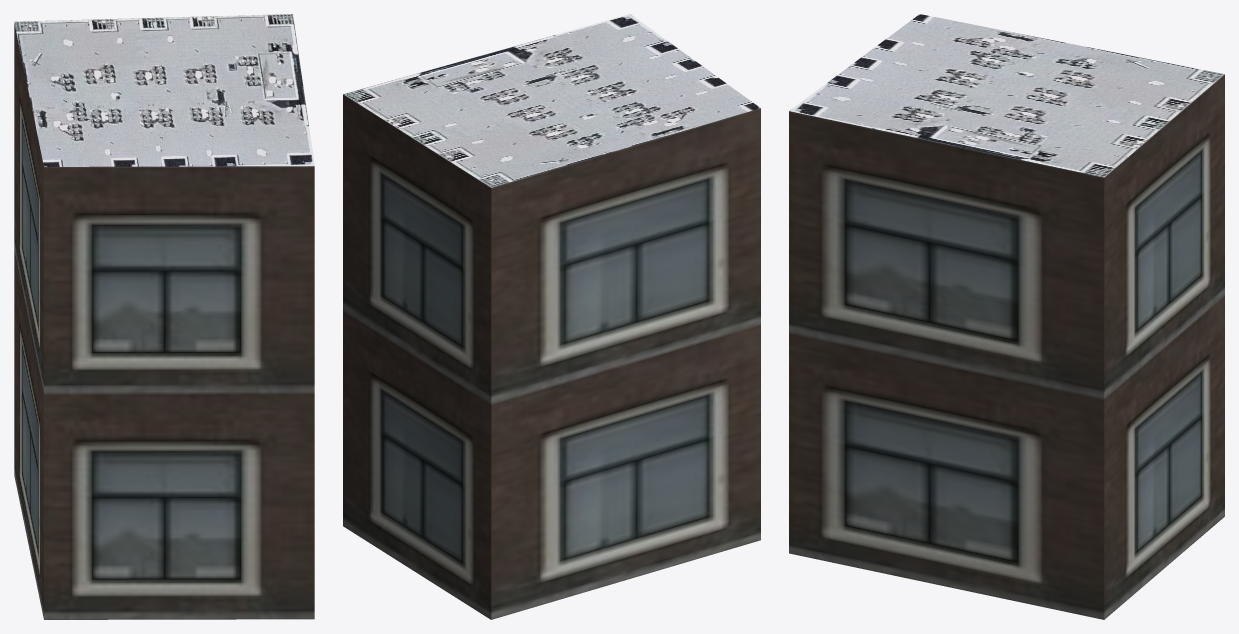
File: ResTex__3138.fbx
3 renders of one model, left to right at view 1: azimuth 30°, elevation 25°; view 2: azimuth 150°, elevation 25°; view 3: azimuth 270°, elevation 25°, orthographic. The views are drawn at different scales.
Visible parts, largest first — view 1: CityEngineMaterial_16_m, CityEngineMaterial_15_m; view 2: CityEngineMaterial_16_m, CityEngineMaterial_15_m; view 3: CityEngineMaterial_16_m, CityEngineMaterial_15_m.
Part boxes in pixels (<box>): CityEngineMaterial_16_m: <box>14,23,314,619</box>; CityEngineMaterial_15_m: <box>14,14,314,166</box>; CityEngineMaterial_16_m: <box>343,94,760,619</box>; CityEngineMaterial_15_m: <box>343,14,760,187</box>; CityEngineMaterial_16_m: <box>789,74,1224,619</box>; CityEngineMaterial_15_m: <box>789,14,1224,177</box>.
Size of the model in its own units: 4.76 by 6 by 5.36.
2 materials, 2 textured.
